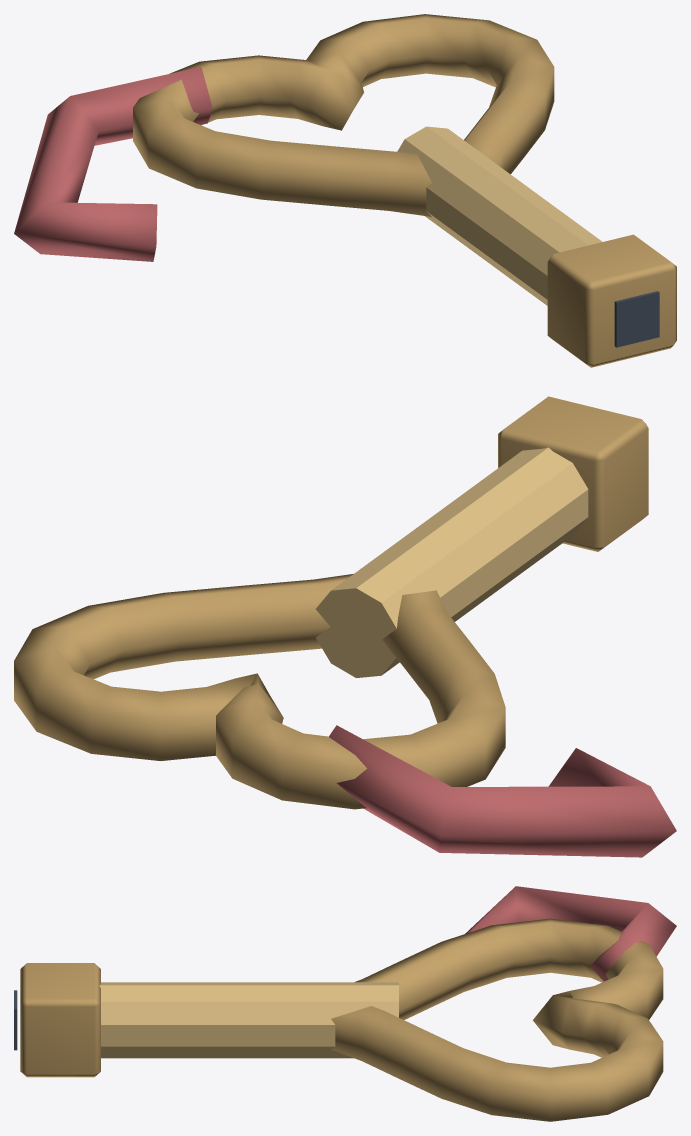
Rendered from clock_key.glb.
The picture shows the model from 3 angles, top to bottom: view 1: azimuth 30°, elevation 25°; view 2: azimuth 150°, elevation 25°; view 3: azimuth 270°, elevation 25°; orthographic projection. The views are drawn at different scales.
Visible parts, largest first — view 1: Heart shaped bow, Short red ribbon, Winding shaft, Square winding end, Socket recess; view 2: Heart shaped bow, Winding shaft, Short red ribbon, Square winding end; view 3: Heart shaped bow, Winding shaft, Square winding end, Short red ribbon.
Boxes of the visible parts, left/top/right/bottom form: Heart shaped bow: left=133, top=14, right=554, bottom=216; Short red ribbon: left=14, top=67, right=212, bottom=261; Winding shaft: left=397, top=126, right=602, bottom=305; Square winding end: left=547, top=234, right=676, bottom=367; Socket recess: left=614, top=291, right=659, bottom=347; Heart shaped bow: left=14, top=574, right=505, bottom=809; Winding shaft: left=315, top=447, right=588, bottom=677; Short red ribbon: left=329, top=725, right=676, bottom=857; Square winding end: left=498, top=396, right=648, bottom=551; Heart shaped bow: left=331, top=918, right=663, bottom=1121; Winding shaft: left=99, top=982, right=398, bottom=1058; Square winding end: left=20, top=963, right=100, bottom=1077; Short red ribbon: left=465, top=886, right=676, bottom=981.
Bounding box in the file's own units: 0.1752 × 0.0355 × 0.2058.
